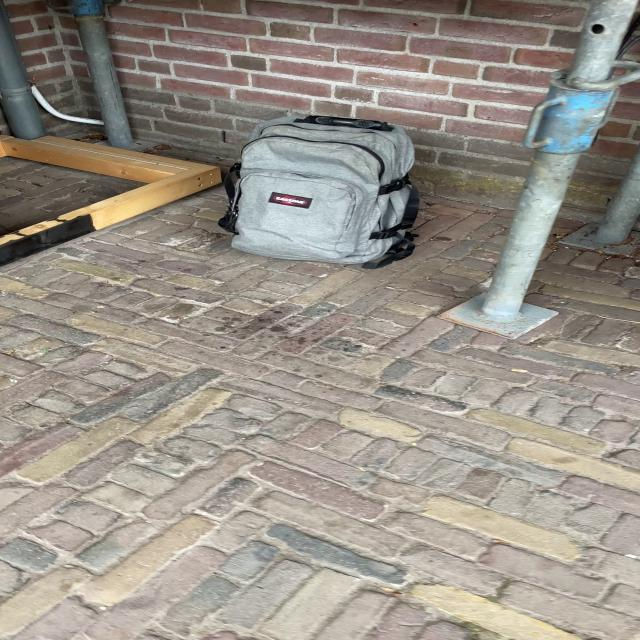backpack: (210, 107, 429, 270)
